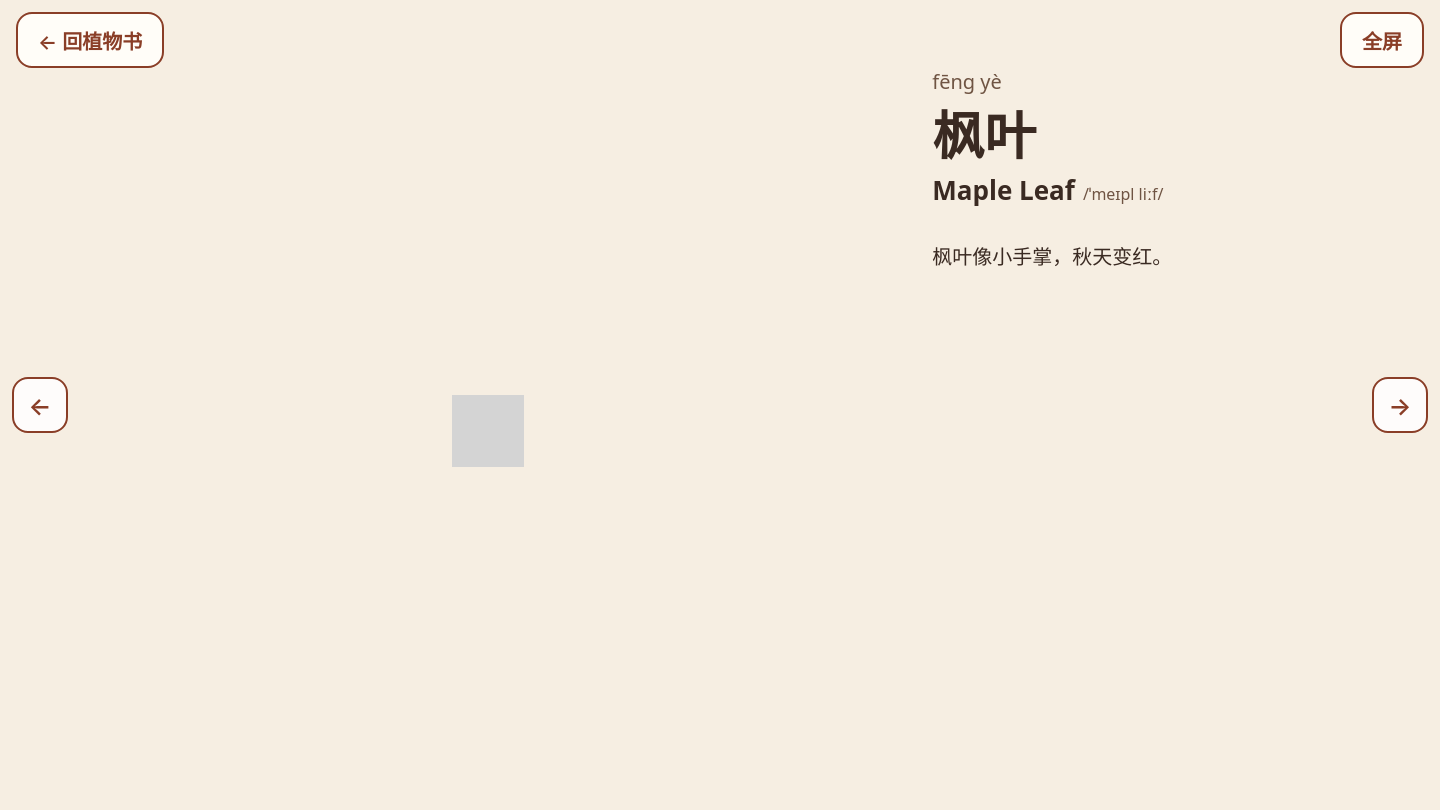
Test: PlantDetailPage 连续浏览（Sprint 4：TC-28 ~ TC-34） › TC-29 首尾循环：末株的下一株回到首株，首株的上一株回到末株
Expected: the heading "枫叶" is shown, [932, 95, 1036, 170]
Step 1. Click the button named "下一株" → [1400, 405], box [1372, 377, 1428, 433]
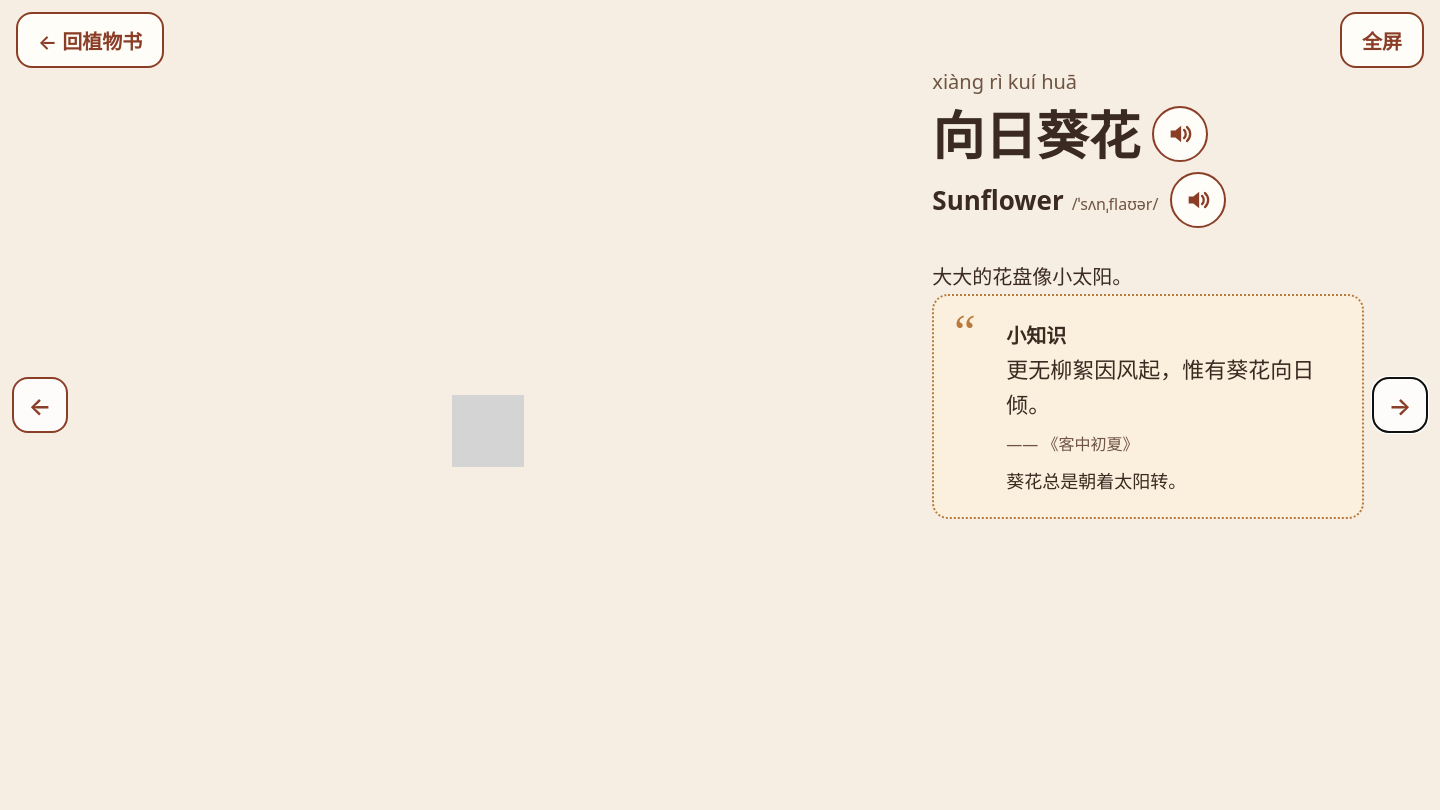
Expected: the heading "向日葵花" is shown, [932, 95, 1140, 170]
Step 2. Click the button named "上一株" → [40, 405], box [12, 377, 68, 433]
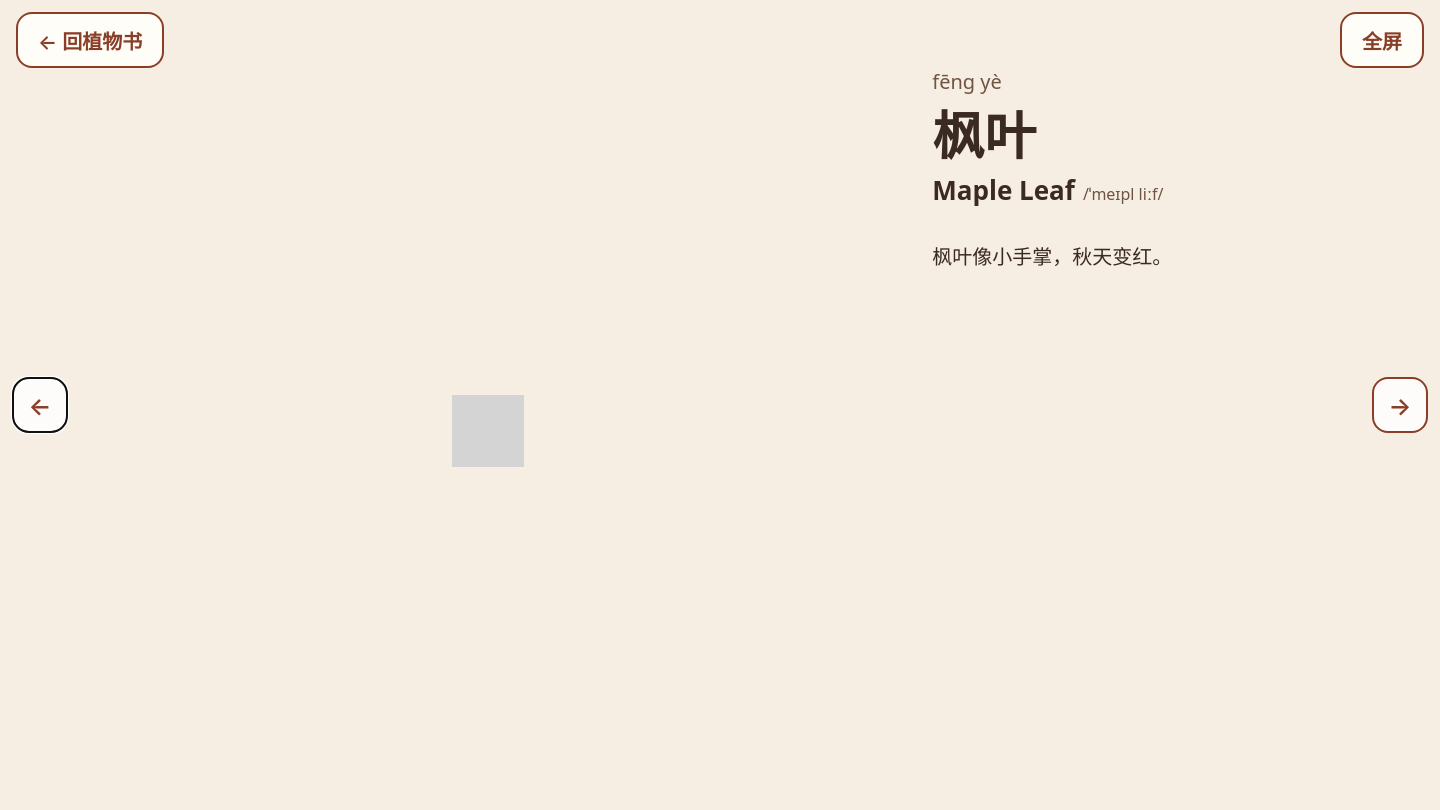
Expected: the heading "枫叶" is shown, [932, 95, 1036, 170]
